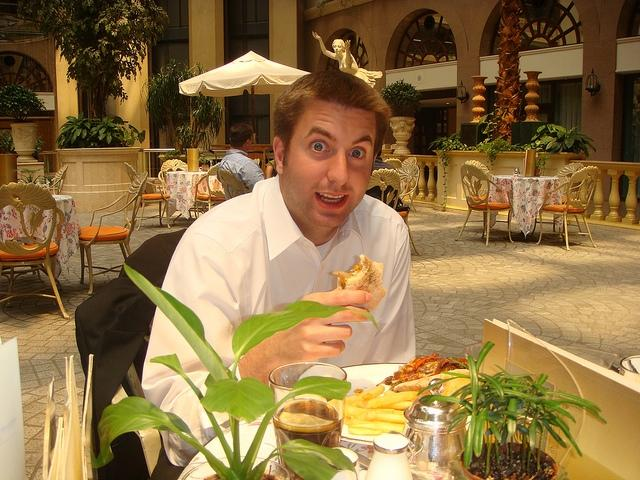lemon: (278, 412, 338, 432)
